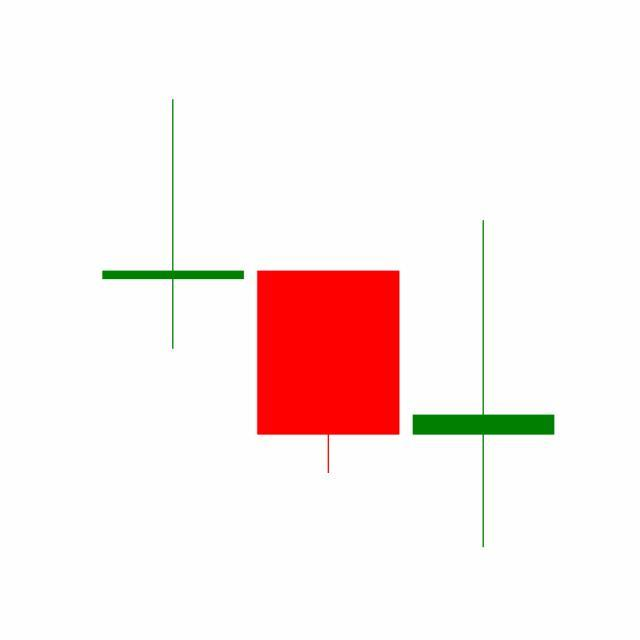Spinning Top: (406, 217, 562, 551)
